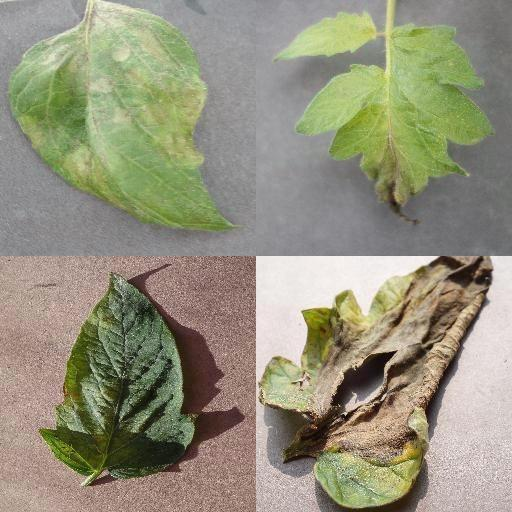Healthy: (271, 9, 377, 59)
Late Blight: (257, 256, 493, 512), (4, 0, 240, 239), (296, 22, 496, 230)
Spider Mites: (38, 271, 198, 479)
